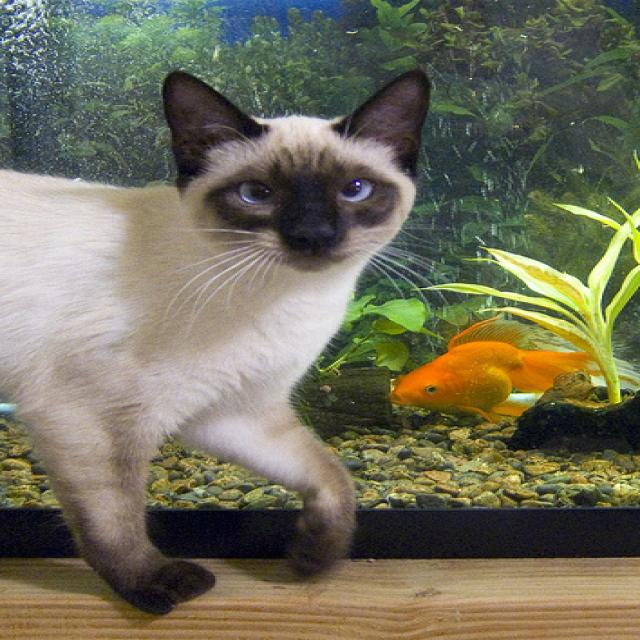cat: (159, 69, 427, 269)
